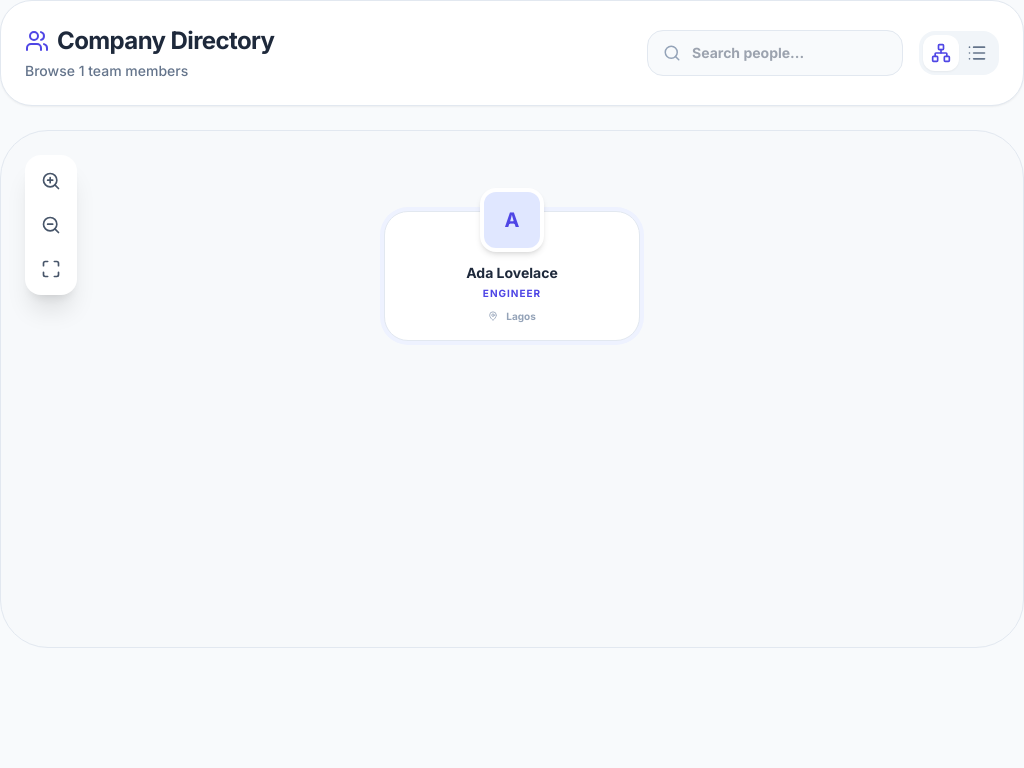
Test: Directory › List view › shows "None" for an employee with no manager
Click the 2nd button.
click(977, 53)  # box [959,35,995,71]
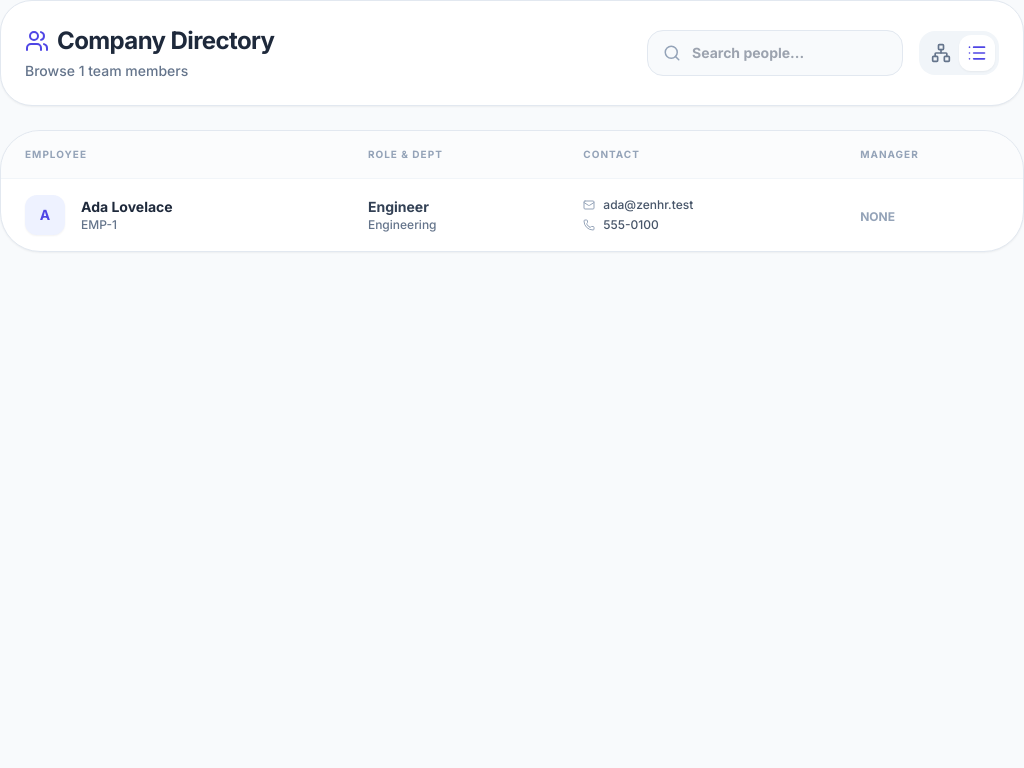
expect the text "None" is shown: met, box [860,209,895,224]
